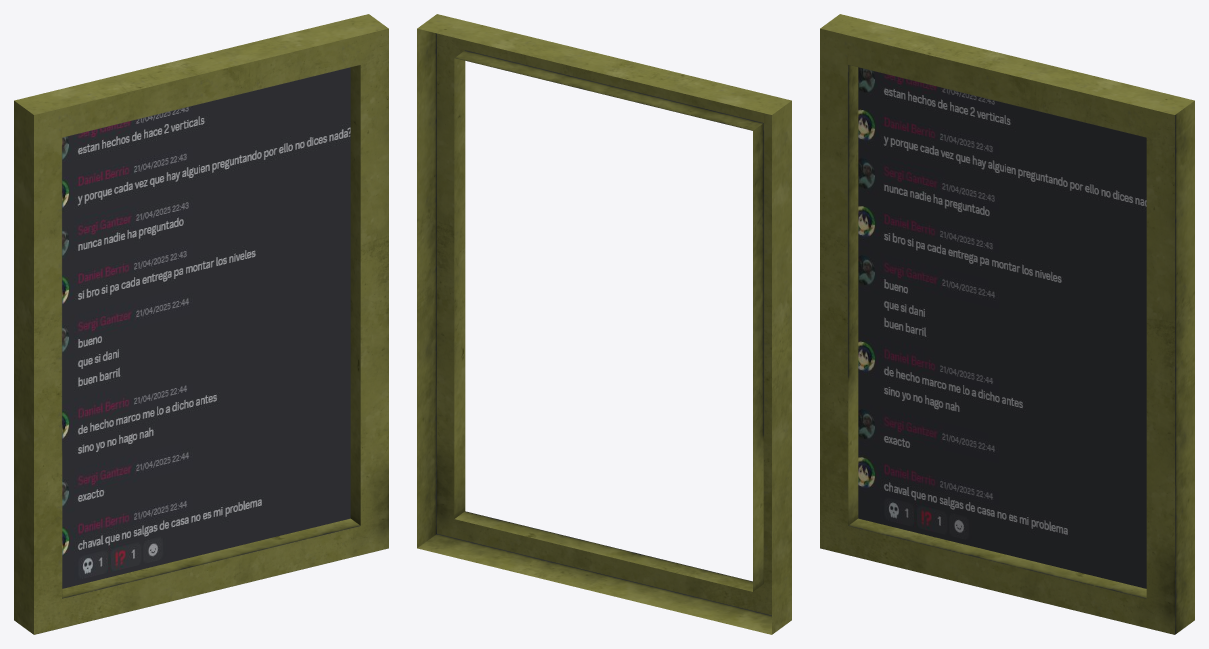
The model's file is Cuadro2.fbx.
3 views of the same model, side by side, from view 1: azimuth 30°, elevation 25°; view 2: azimuth 150°, elevation 25°; view 3: azimuth 330°, elevation 25° (orthographic).
Visible parts, largest first — view 1: Plane, marco; view 2: marco; view 3: Plane, marco.
Part boxes in pixels (box(x1,y1,x2,y2)): Plane: box(62, 67, 350, 588); marco: box(14, 14, 388, 634); marco: box(417, 14, 791, 634); Plane: box(858, 67, 1146, 588); marco: box(820, 14, 1194, 634).
Bounding box in the file's own units: 80 × 112 × 7.79.
